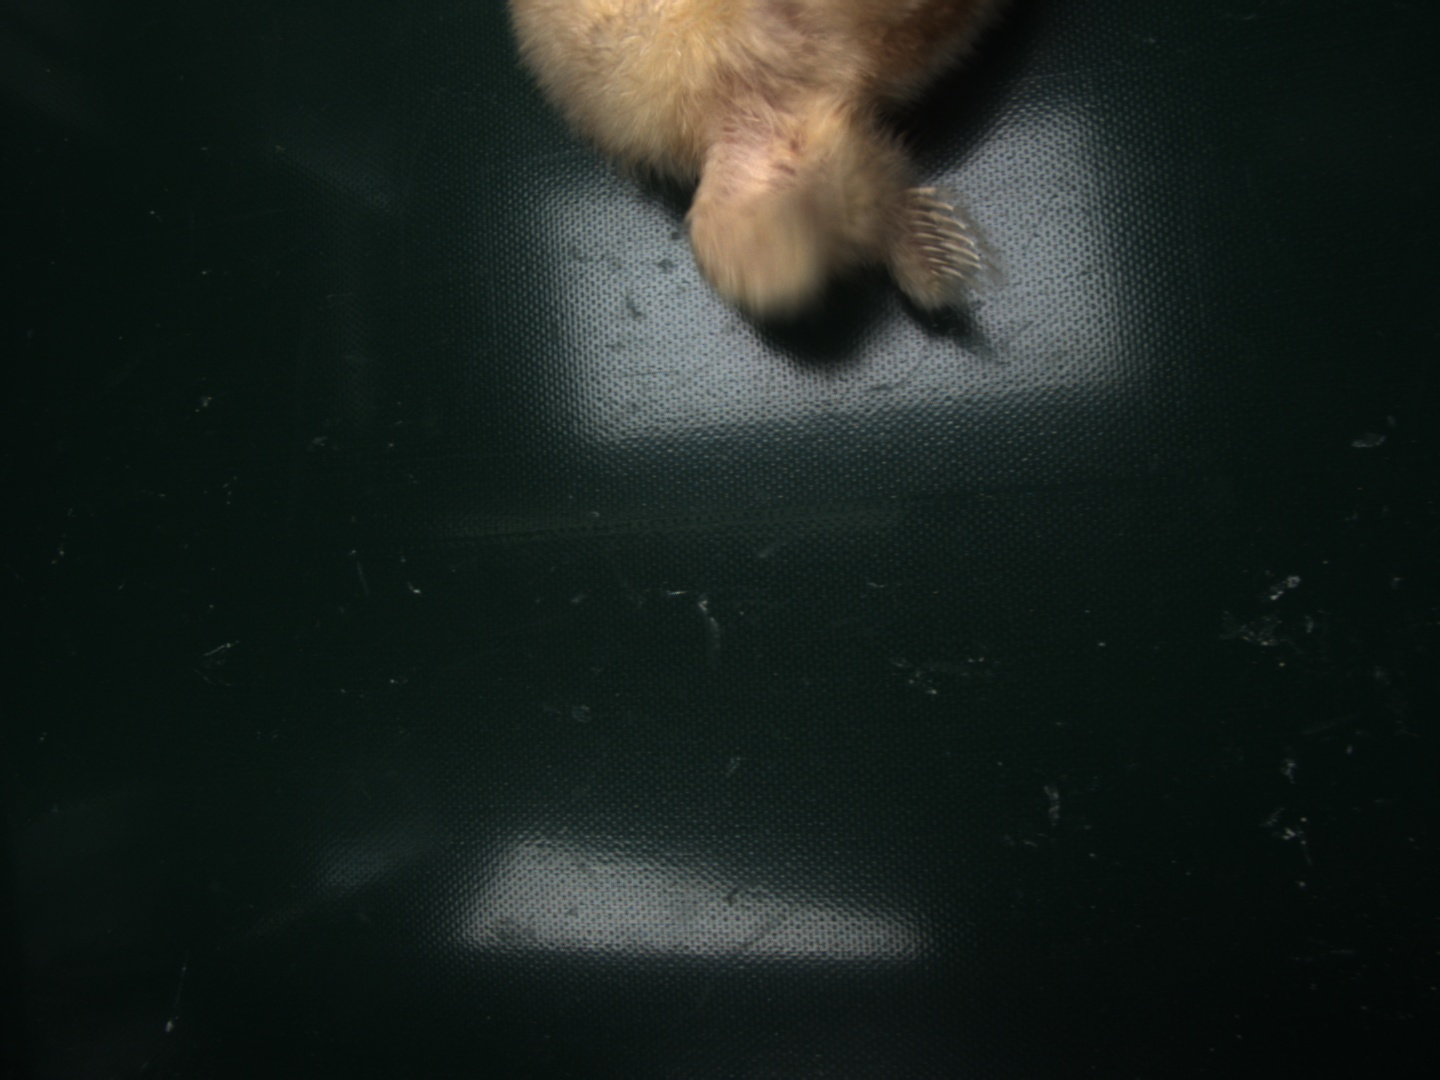female: (900, 188, 982, 284)
